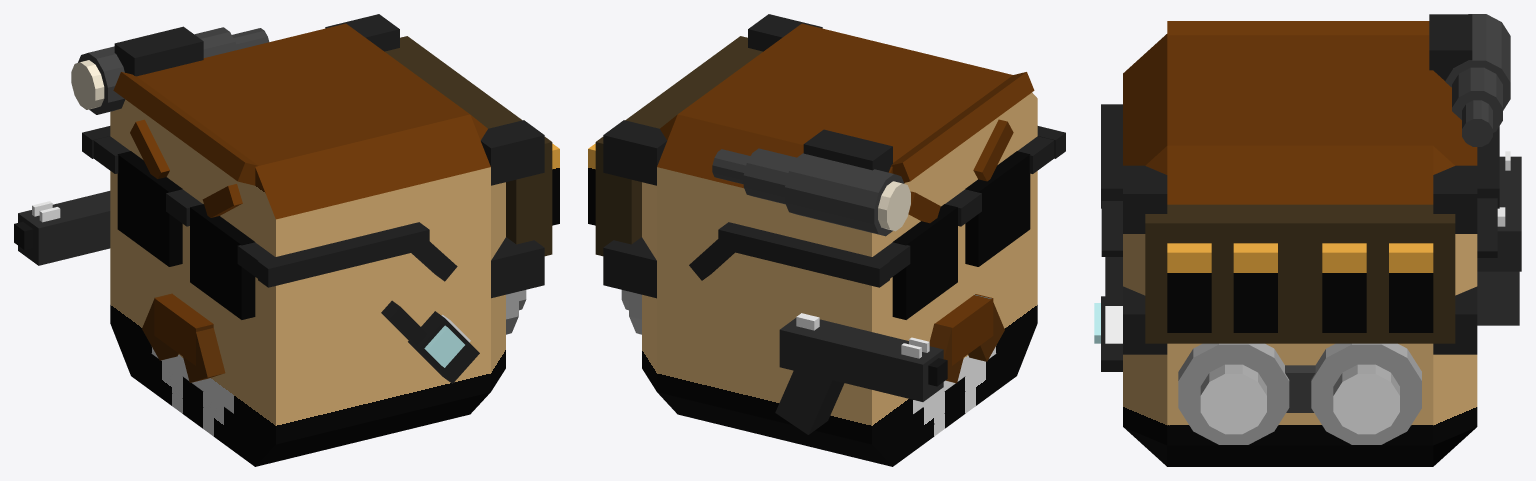
The model's file is playerPistol.gltf.
3 renders of one model, left to right at view 1: azimuth 30°, elevation 25°; view 2: azimuth 150°, elevation 25°; view 3: azimuth 270°, elevation 25°, orthographic. The views are drawn at different scales.
Parts seen in each view (by area): view 1: beveled_cuboid, cube (×23), tube (×2); view 2: beveled_cuboid, cube (×22), tube (×3); view 3: beveled_cuboid, cube (×21), tube (×7).
Part boxes in pixels (box(x1,y1,x2,y2)): beveled_cuboid: box(110, 23, 505, 466); cube (×23): box(18, 14, 559, 383); tube (×2): box(71, 27, 237, 114); beveled_cuboid: box(642, 23, 1037, 466); cube (×22): box(588, 14, 1065, 434); tube (×3): box(712, 148, 910, 236); beveled_cuboid: box(1123, 34, 1477, 466); cube (×21): box(1101, 14, 1521, 412); tube (×7): box(1178, 14, 1510, 444).
Bounding box in the file's own units: 1.34 × 1.06 × 1.21.
4 materials, 4 textured.
